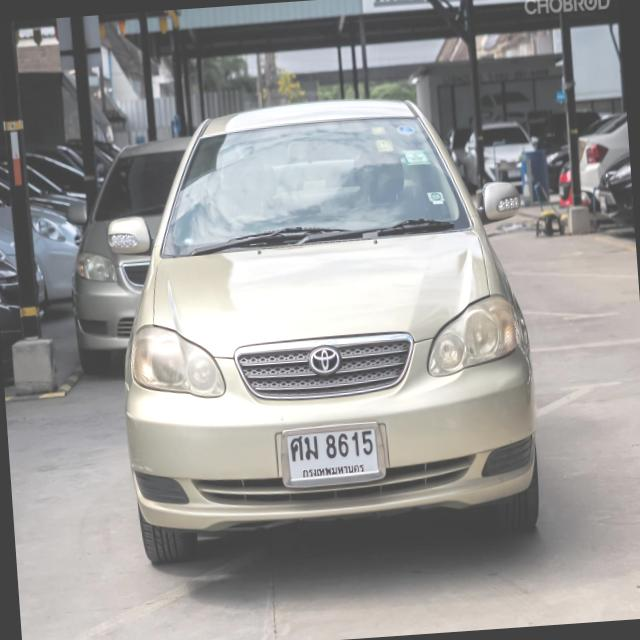license_plate: (279, 419, 387, 488)
